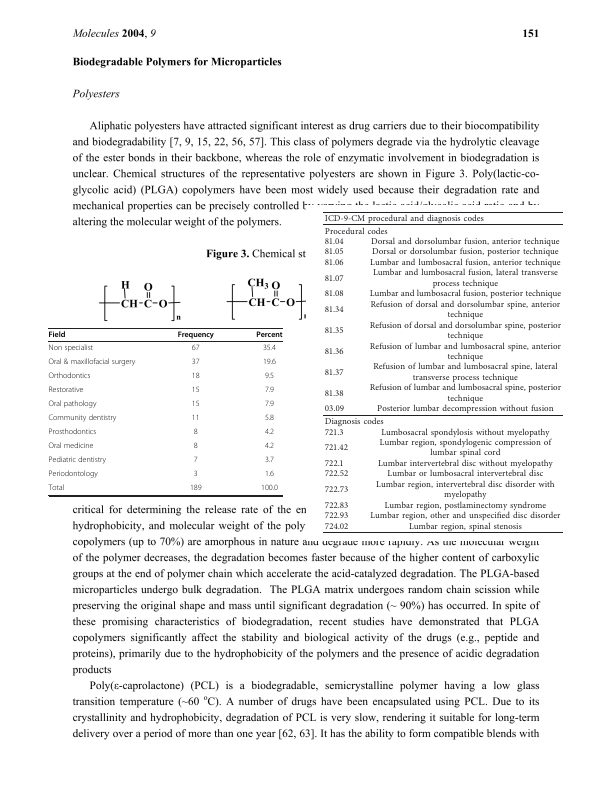borderless: (322, 210, 563, 532), (47, 327, 282, 495)
cell: (368, 383, 562, 405), (372, 268, 558, 290), (368, 321, 562, 342), (368, 342, 562, 363), (369, 300, 561, 321), (372, 363, 558, 384), (375, 480, 555, 501), (378, 438, 552, 459), (368, 289, 562, 300), (369, 258, 561, 269), (369, 511, 561, 522), (370, 237, 560, 248), (376, 404, 554, 415), (377, 459, 553, 470), (371, 248, 559, 258), (323, 214, 484, 225), (386, 469, 544, 480), (380, 428, 550, 438), (383, 501, 547, 511), (408, 522, 522, 532), (48, 358, 136, 368), (48, 414, 117, 424), (323, 417, 384, 428), (323, 227, 388, 237), (48, 456, 107, 466), (48, 470, 99, 480), (48, 400, 97, 410), (48, 428, 97, 438), (48, 344, 94, 354), (48, 442, 94, 452), (48, 372, 91, 382), (48, 386, 84, 396), (177, 331, 215, 340), (323, 443, 349, 454), (323, 469, 349, 480), (323, 485, 349, 496), (323, 511, 349, 522), (323, 501, 349, 511), (323, 522, 349, 532), (255, 331, 283, 340), (323, 404, 345, 415), (323, 237, 344, 248), (323, 258, 344, 269), (323, 289, 344, 300), (323, 305, 344, 316), (323, 326, 344, 337), (323, 347, 344, 358), (323, 459, 344, 470), (323, 248, 344, 258), (323, 274, 344, 284), (323, 368, 344, 378), (323, 389, 344, 399), (323, 428, 344, 438), (260, 484, 279, 494), (48, 484, 65, 494), (48, 331, 66, 340), (262, 344, 277, 354), (262, 358, 277, 368), (189, 484, 202, 494), (264, 372, 275, 382), (264, 386, 275, 396), (264, 400, 275, 410), (264, 414, 275, 424), (264, 428, 275, 438), (264, 442, 275, 452), (264, 456, 275, 466), (264, 470, 275, 480), (191, 344, 200, 354), (191, 358, 200, 368), (191, 372, 200, 382), (191, 386, 200, 396), (191, 400, 200, 410), (191, 414, 200, 424), (193, 428, 199, 438), (193, 442, 199, 452), (193, 456, 199, 466), (193, 470, 199, 480)
